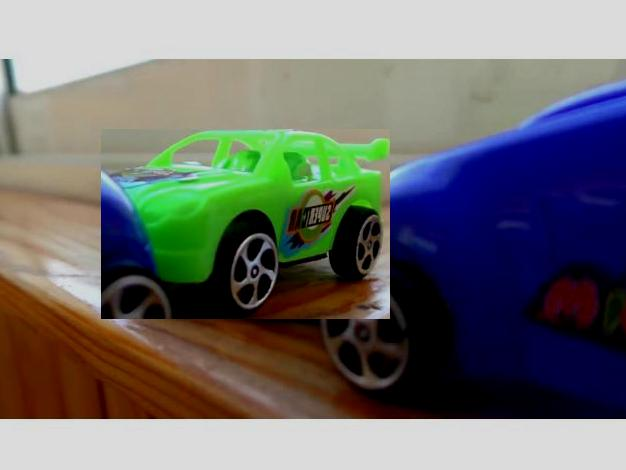toy-car: (317, 79, 626, 417), (102, 130, 391, 320)
